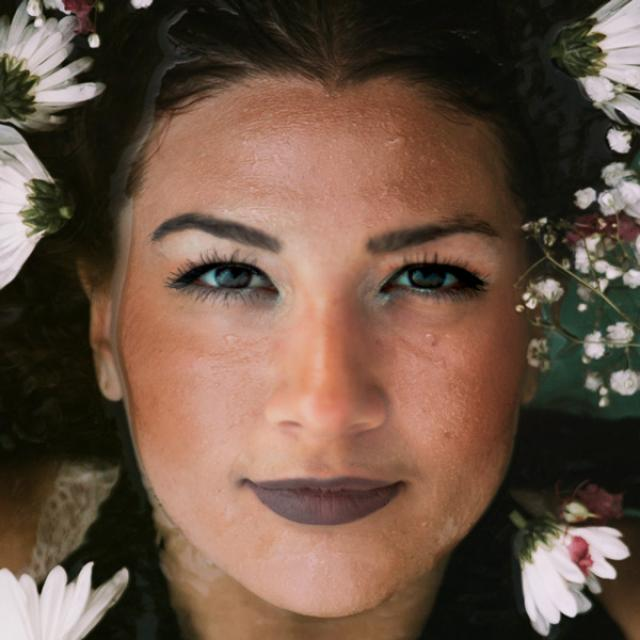face: (81, 16, 585, 618)
